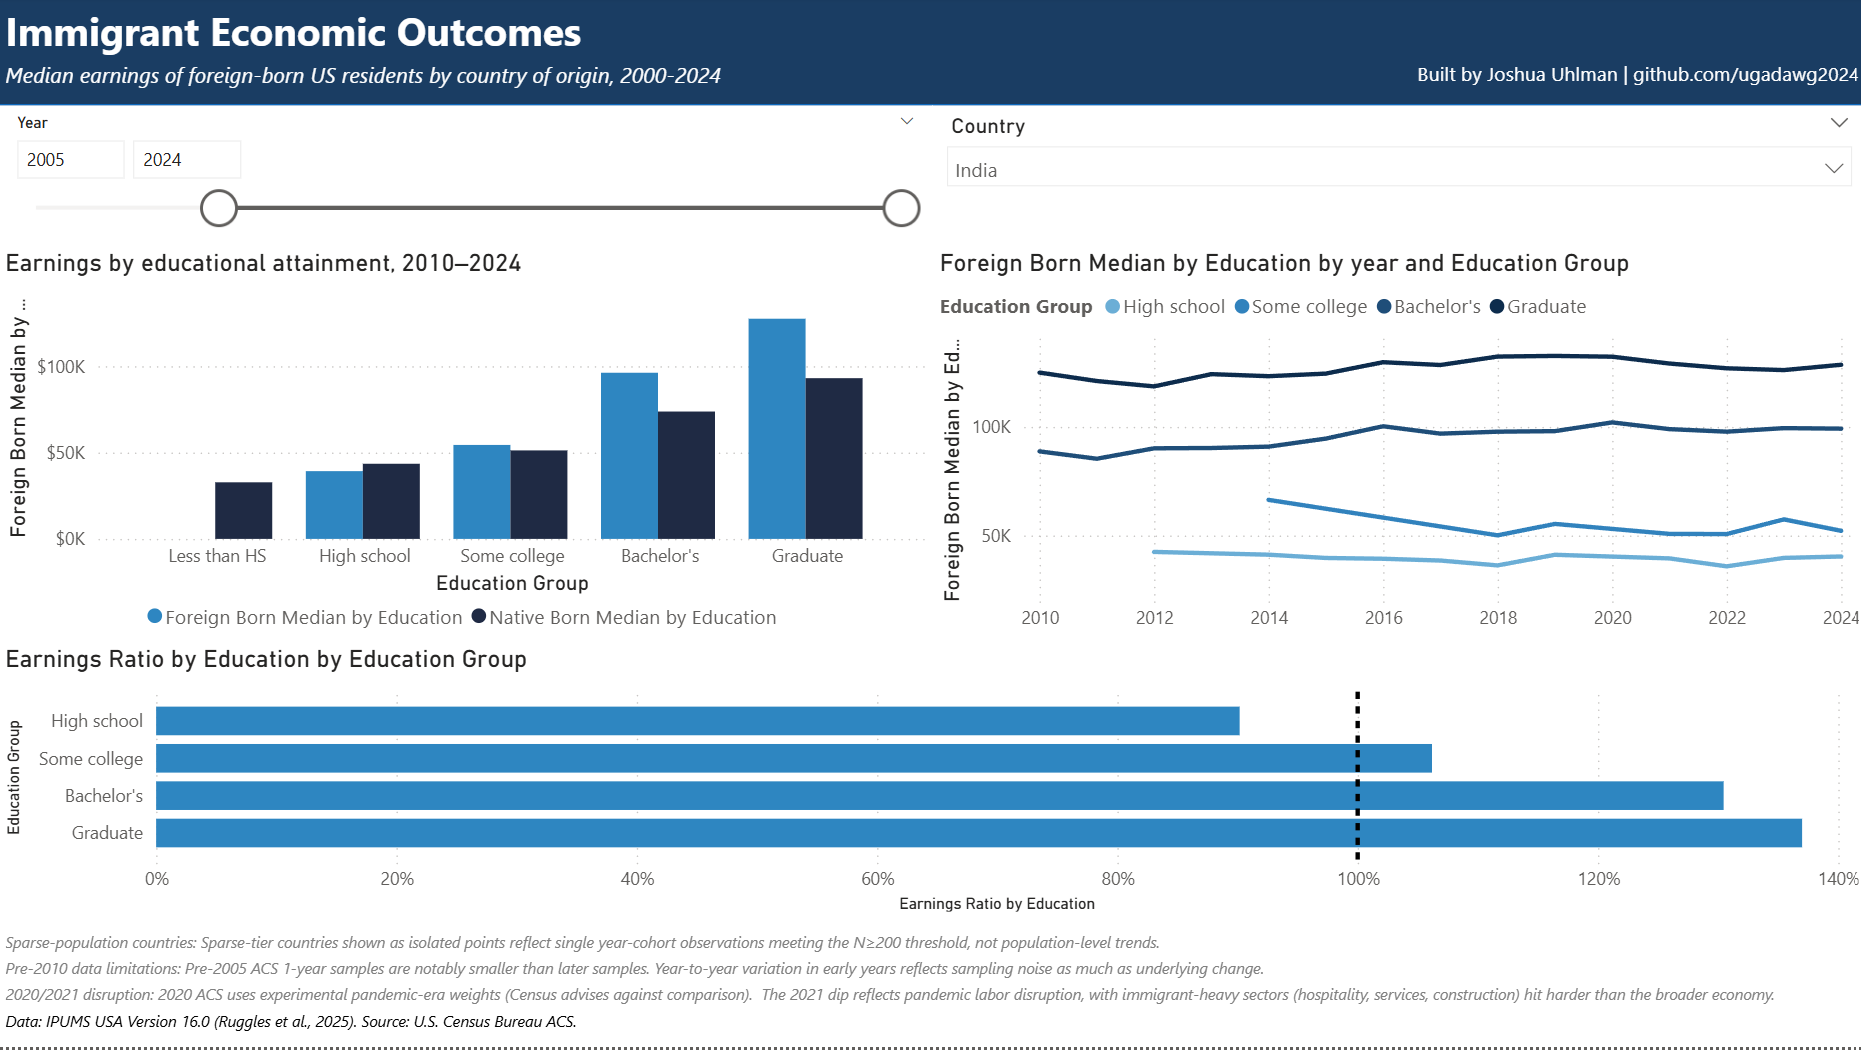

The dashboard page shown, as its layout file describes it:
{"tool":"powerbi","page":{"name":"Education","canvas":[1280,720],"ordinal":3},"visuals":[{"type":"shape","box":[0,0,1280.4,75],"z":0},{"type":"textbox","box":[0,0,505.6,47.3],"z":1000},{"type":"textbox","box":[0,38,571.4,37],"z":2000},{"type":"textbox","box":[914.6,38,365.8,37],"z":3000},{"type":"textbox","box":[0,632,1280.4,88.4],"z":4000},{"type":"slicer","title":"Country","fields":{"Values":["Countries.country_name"]},"box":[639.8,75,640.2,97.6],"z":5000},{"type":"slicer","fields":{"Values":["Date.Year"]},"box":[0,75,640.2,97.6],"z":6000},{"type":"clusteredColumnChart","fields":{"Category":["Education.education_group"],"Y":["Medians.Foreign Born Median by Education","Medians.Native Born Median by Education"]},"box":[0,172.6,640.2,271.3],"z":8000},{"type":"lineChart","fields":{"Category":["Medians.year"],"Series":["Education.education_group"],"Y":["Medians.Foreign Born Median by Education"]},"box":[640.2,172.6,640.2,271.3],"z":8001},{"type":"clusteredBarChart","fields":{"Category":["Education.Education Group"],"Y":["Medians.Earnings Ratio by Education"]},"box":[0,443.9,1280.4,188.1],"z":8002}]}

Visuals, with their boxes in screenshot pixels (x1, y1, x2, y2), scaled from the page's 1280x720 canvas onto the 1861x1050 screenshot:
shape: locate(0, 0, 1860, 109)
textbox: locate(0, 0, 735, 69)
textbox: locate(0, 55, 831, 109)
textbox: locate(1330, 55, 1860, 109)
textbox: locate(0, 922, 1860, 1049)
"Country" slicer: locate(930, 109, 1860, 252)
slicer - Date.Year: locate(0, 109, 931, 252)
clusteredColumnChart - Education.education_group x Medians.Foreign Born Median by Education: locate(0, 252, 931, 647)
lineChart - Medians.year x Education.education_group: locate(931, 252, 1860, 647)
clusteredBarChart - Education.Education Group x Medians.Earnings Ratio by Education: locate(0, 647, 1860, 922)
